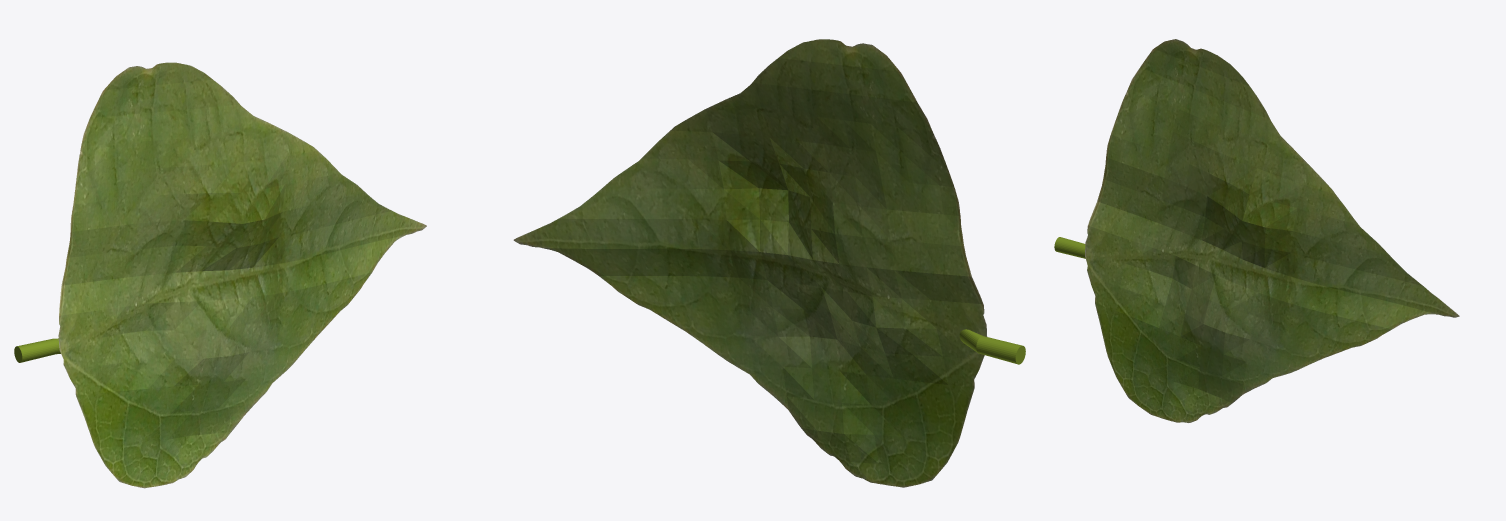
The model's file is BeanLeaf_left.obj.
3 renders of one model, left to right at view 1: azimuth 30°, elevation 25°; view 2: azimuth 150°, elevation 25°; view 3: azimuth 330°, elevation 25°, orthographic. The views are drawn at different scales.
Visible parts, largest first — view 1: Plane, Cylinder; view 2: Plane, Cylinder; view 3: Plane.
Boxes of the visible parts, x1=… form: Plane: x1=58, y1=62, x2=426, y2=488; Cylinder: x1=14, y1=338, x2=60, y2=362; Plane: x1=513, y1=39, x2=987, y2=487; Cylinder: x1=959, y1=329, x2=1025, y2=364; Plane: x1=1085, y1=39, x2=1459, y2=422.
Size of the model in its own units: 1.15 by 1.12 by 0.1772.
